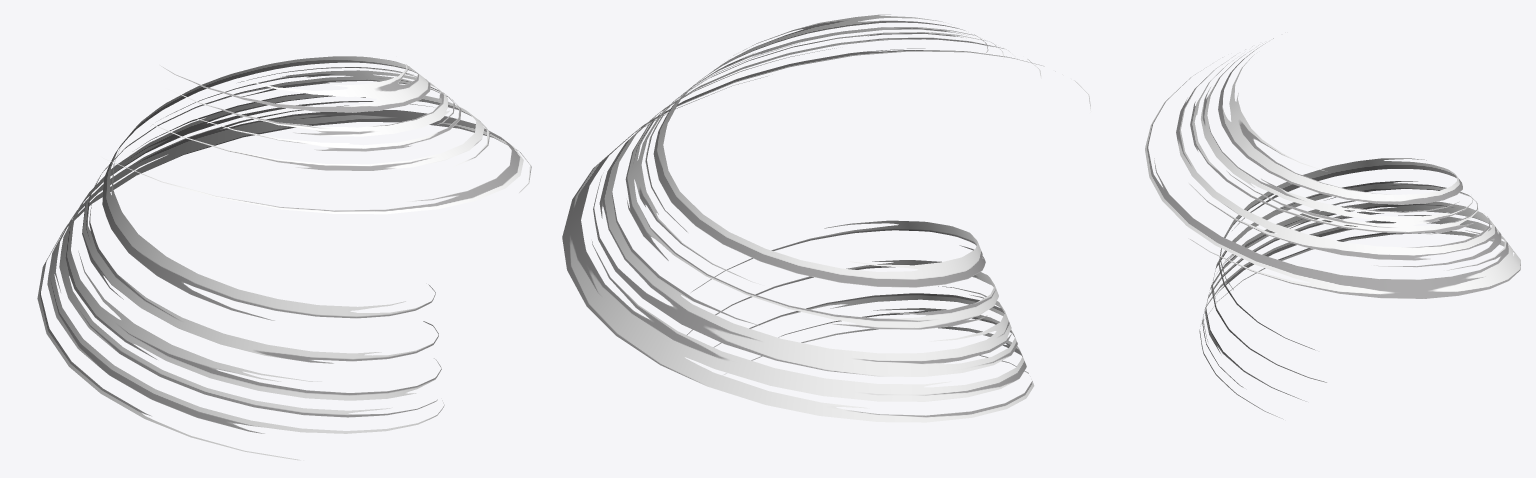
The model's file is eff_trail_10.FBX.
The picture shows the model from 3 angles, left to right: view 1: azimuth 30°, elevation 25°; view 2: azimuth 150°, elevation 25°; view 3: azimuth 270°, elevation 25°; orthographic projection. The views are drawn at different scales.
Parts seen in each view (by area): view 1: eff_trail_10; view 2: eff_trail_10; view 3: eff_trail_10.
Boxes of the visible parts, left/top/right/bottom form: eff_trail_10: left=37, top=56, right=531, bottom=460; eff_trail_10: left=562, top=14, right=1091, bottom=422; eff_trail_10: left=1145, top=38, right=1520, bottom=419.
Bounding box in the file's own units: 129 × 121 × 121.
1 material, 1 textured.
